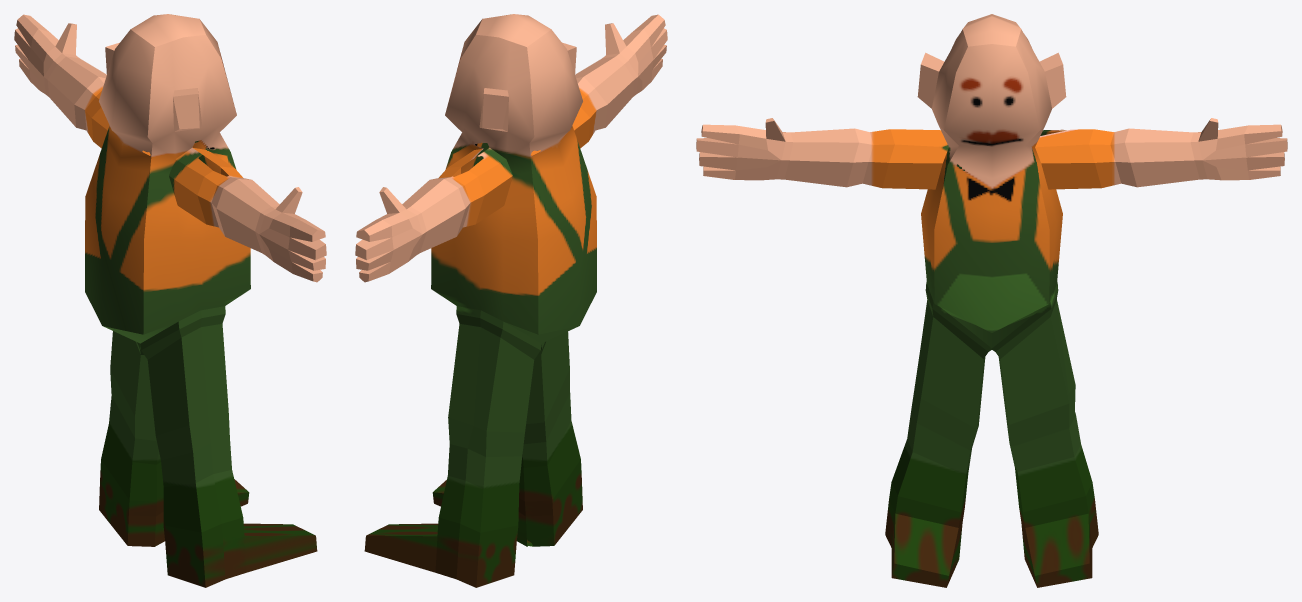
The model's file is characterLandmand01.FBX.
3 renders of one model, left to right at view 1: azimuth 30°, elevation 25°; view 2: azimuth 150°, elevation 25°; view 3: azimuth 270°, elevation 25°, orthographic.
Visible parts, largest first — view 1: characterLandmand; view 2: characterLandmand; view 3: characterLandmand.
Boxes of the visible parts, x1,y1,x2,y2 form: characterLandmand: (14, 14, 326, 587); characterLandmand: (355, 14, 667, 587); characterLandmand: (696, 14, 1287, 587).
Size of the model in its own units: 63.57 by 196 by 196.
1 material, 1 textured.
